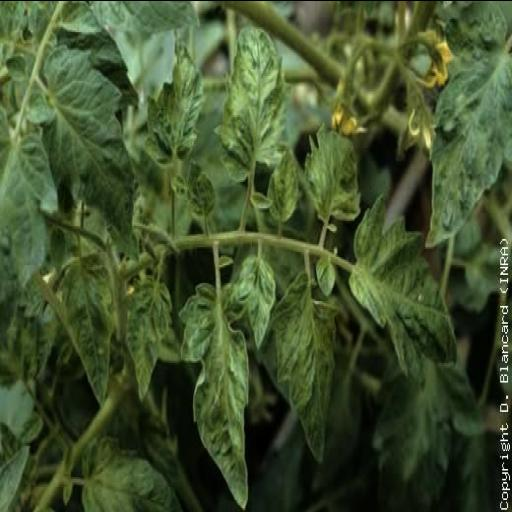Mosaic Virus: (346, 190, 456, 366), (211, 16, 291, 168), (189, 320, 248, 512), (148, 30, 208, 153), (120, 274, 174, 400), (226, 248, 276, 344)
